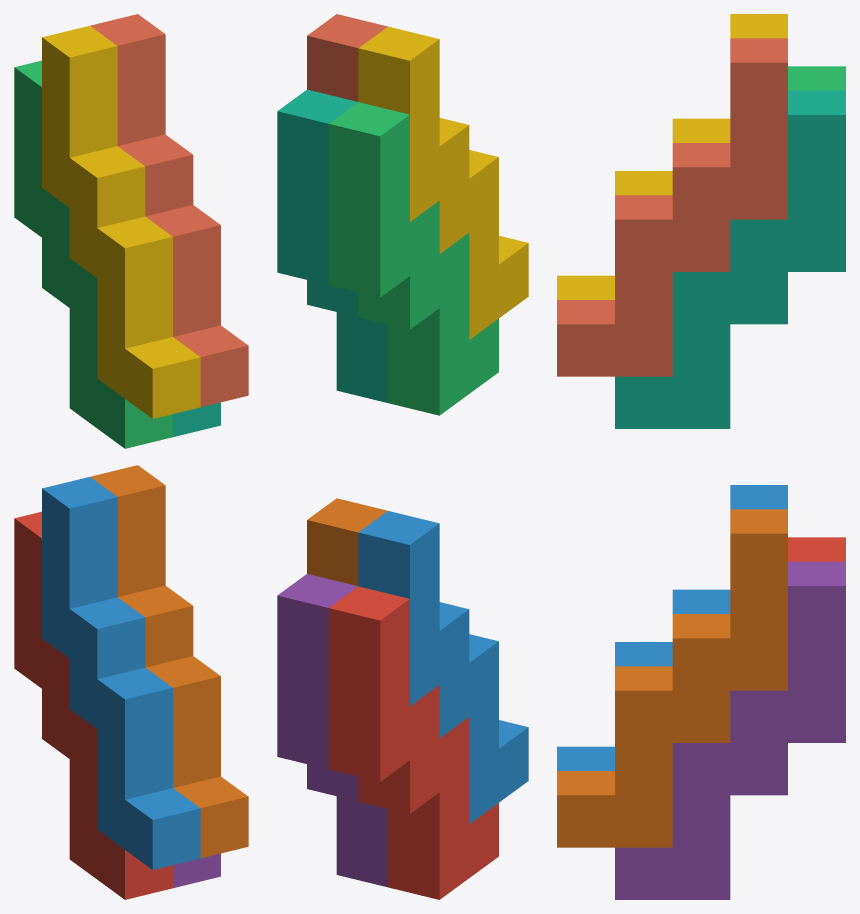
File: tiling.obj
The picture shows the model from 3 angles, left to right: view 1: azimuth 30°, elevation 25°; view 2: azimuth 150°, elevation 25°; view 3: azimuth 270°, elevation 25°; orthographic projection. The views are drawn at different scales.
Parts seen in each view (by area): view 1: copy_1_domain_4, copy_1_domain_2, copy_1_domain_8, copy_1_domain_6, copy_1_domain_1, copy_1_domain_3, copy_1_domain_5, copy_1_domain_7; view 2: copy_1_domain_3, copy_1_domain_1, copy_1_domain_4, copy_1_domain_2, copy_1_domain_7, copy_1_domain_5, copy_1_domain_6, copy_1_domain_8; view 3: copy_1_domain_6, copy_1_domain_8, copy_1_domain_5, copy_1_domain_7, copy_1_domain_2, copy_1_domain_4, copy_1_domain_1, copy_1_domain_3.
Part boxes in pixels (<box>): copy_1_domain_4: <box>42,25,200,418</box>; copy_1_domain_2: <box>42,477,200,869</box>; copy_1_domain_8: <box>90,14,248,406</box>; copy_1_domain_6: <box>90,465,248,858</box>; copy_1_domain_1: <box>14,511,172,899</box>; copy_1_domain_3: <box>14,60,172,448</box>; copy_1_domain_5: <box>173,853,220,888</box>; copy_1_domain_7: <box>173,402,220,436</box>; copy_1_domain_3: <box>328,102,498,415</box>; copy_1_domain_1: <box>328,586,498,899</box>; copy_1_domain_4: <box>358,26,528,339</box>; copy_1_domain_2: <box>358,511,528,823</box>; copy_1_domain_7: <box>277,89,387,402</box>; copy_1_domain_5: <box>277,574,387,887</box>; copy_1_domain_6: <box>307,498,387,585</box>; copy_1_domain_8: <box>307,14,387,101</box>; copy_1_domain_6: <box>557,509,787,847</box>; copy_1_domain_8: <box>557,38,787,376</box>; copy_1_domain_5: <box>615,561,845,899</box>; copy_1_domain_7: <box>615,90,845,428</box>; copy_1_domain_2: <box>557,485,787,770</box>; copy_1_domain_4: <box>557,14,787,299</box>; copy_1_domain_1: <box>788,537,845,561</box>; copy_1_domain_3: <box>788,66,845,90</box>.
Size of the model in its own units: 2 by 16 by 5.
